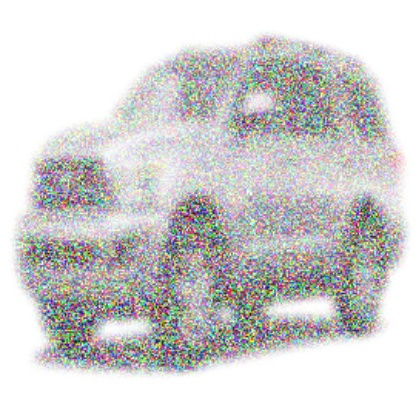Vehicle: (18, 30, 405, 376)
